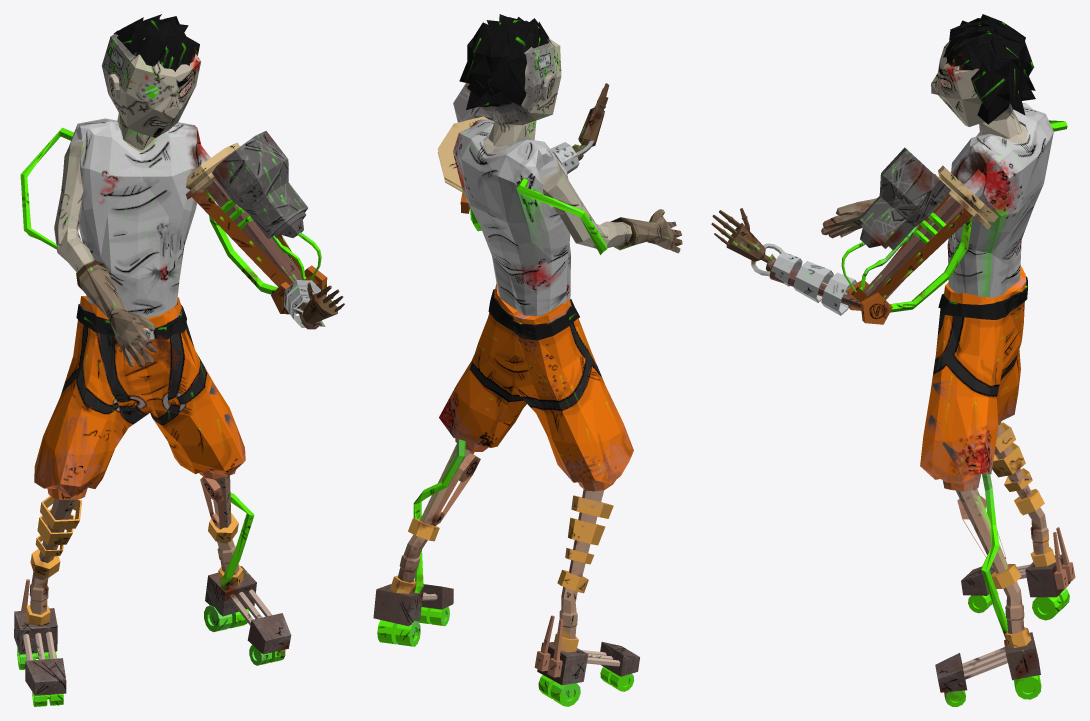
The model's file is CyborgFINALAnimation_000017.obj.
3 views of the same model, side by side, from view 1: azimuth 30°, elevation 25°; view 2: azimuth 150°, elevation 25°; view 3: azimuth 270°, elevation 25° (orthographic). The views are drawn at different scales.
Parts seen in each view (by area): view 1: CyborgMesh_Cube.002; view 2: CyborgMesh_Cube.002; view 3: CyborgMesh_Cube.002.
Boxes of the visible parts, x1,y1,x2,y2 form: CyborgMesh_Cube.002: [14, 14, 344, 706]; CyborgMesh_Cube.002: [373, 14, 682, 706]; CyborgMesh_Cube.002: [711, 14, 1075, 706].
Size of the model in its own units: 3.69 by 9.59 by 4.96.
